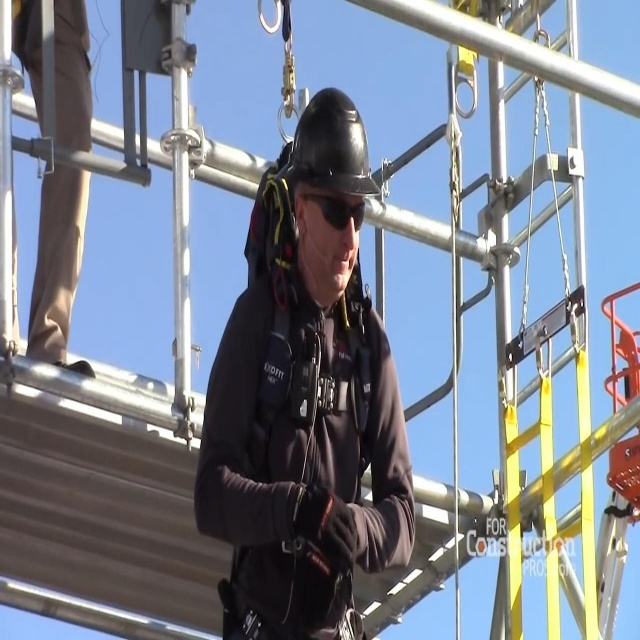Arnes_seguridad: (201, 140, 381, 640)
